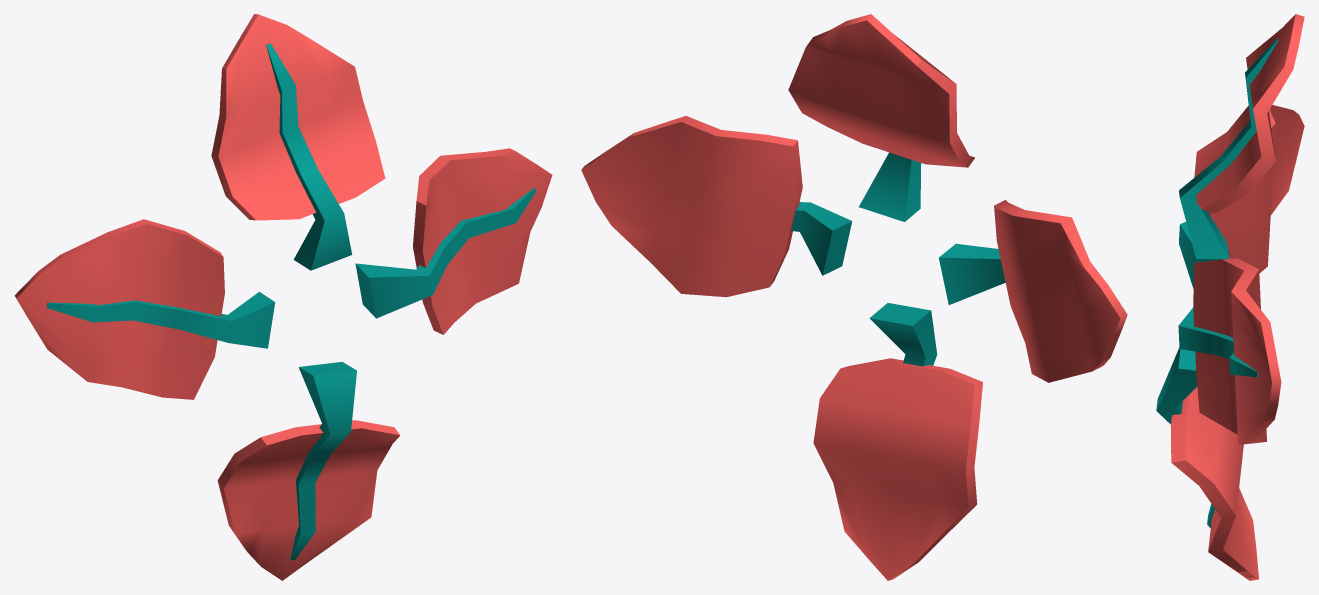
File: Monster_3_Leafs.FBX
The picture shows the model from 3 angles, left to right: view 1: azimuth 30°, elevation 25°; view 2: azimuth 150°, elevation 25°; view 3: azimuth 270°, elevation 25°; orthographic projection. The views are drawn at different scales.
Visible parts, largest first — view 1: Box006, Box004, Box008, Box002, Box003, Box005, Box007, Box001; view 2: Box002, Box008, Box004, Box006, Box003, Box005, Box007, Box001; view 3: Box002, Box008, Box004, Box006, Box003, Box007, Box001, Box005.
Boxes of the visible parts, left/top/right/bottom form: Box006: left=14, top=219, right=224, bottom=399; Box004: left=211, top=14, right=385, bottom=220; Box008: left=217, top=420, right=400, bottom=580; Box002: left=413, top=148, right=552, bottom=334; Box003: left=266, top=43, right=352, bottom=270; Box005: left=46, top=291, right=275, bottom=348; Box007: left=290, top=362, right=356, bottom=560; Box001: left=355, top=187, right=535, bottom=318; Box002: left=581, top=116, right=802, bottom=297; Box008: left=813, top=358, right=982, bottom=580; Box004: left=788, top=14, right=974, bottom=167; Box006: left=994, top=200, right=1127, bottom=382; Box003: left=859, top=152, right=921, bottom=221; Box005: left=939, top=243, right=1005, bottom=304; Box007: left=869, top=303, right=937, bottom=366; Box001: left=791, top=202, right=852, bottom=275; Box002: left=1193, top=258, right=1281, bottom=444; Box008: left=1171, top=387, right=1258, bottom=580; Box004: left=1194, top=14, right=1304, bottom=213; Box006: left=1207, top=105, right=1304, bottom=273; Box003: left=1179, top=38, right=1278, bottom=258; Box007: left=1156, top=348, right=1214, bottom=527; Box001: left=1178, top=307, right=1258, bottom=377; Box005: left=1179, top=222, right=1229, bottom=288.
Size of the model in its own units: 61.37 by 61.53 by 14.61.
